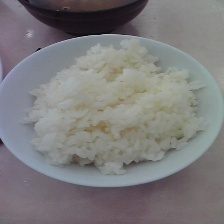rice: (18, 35, 211, 176)
